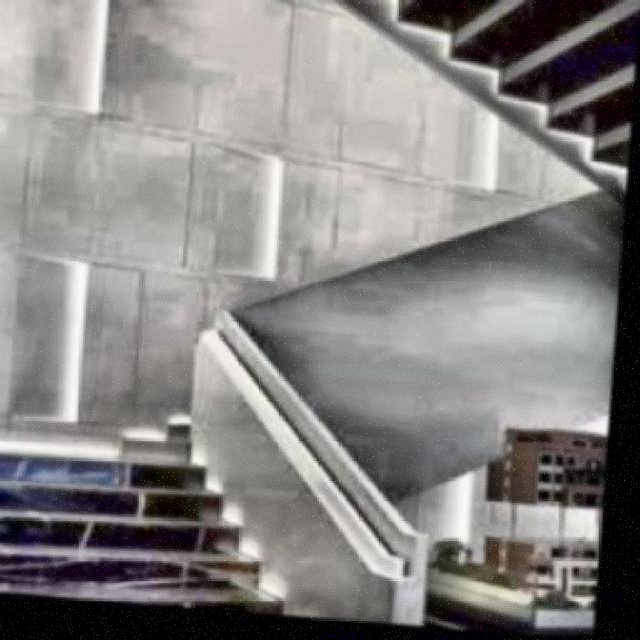stair: (2, 437, 260, 617)
